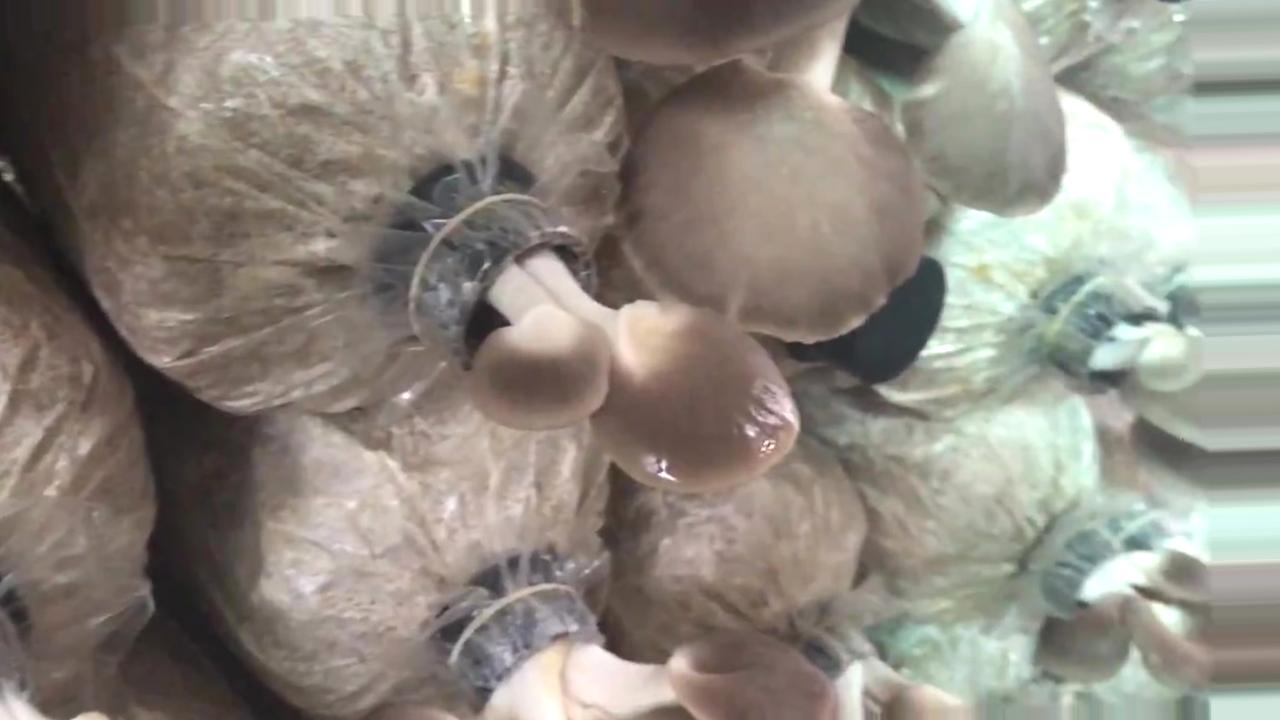nam: (582, 1, 1061, 348), (428, 185, 802, 496), (446, 581, 836, 720), (1036, 524, 1280, 699), (792, 612, 978, 720), (1049, 274, 1205, 402)
